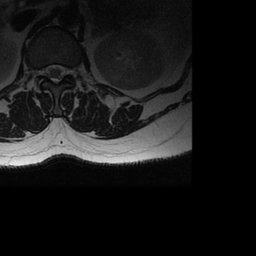CCS_normal: (52, 59, 58, 88)
LFS_stenosis: (66, 60, 72, 80)
LLS_normal: (58, 59, 65, 85)
RFS_stenosis: (36, 61, 44, 81)
RLS_normal: (45, 59, 52, 84)
